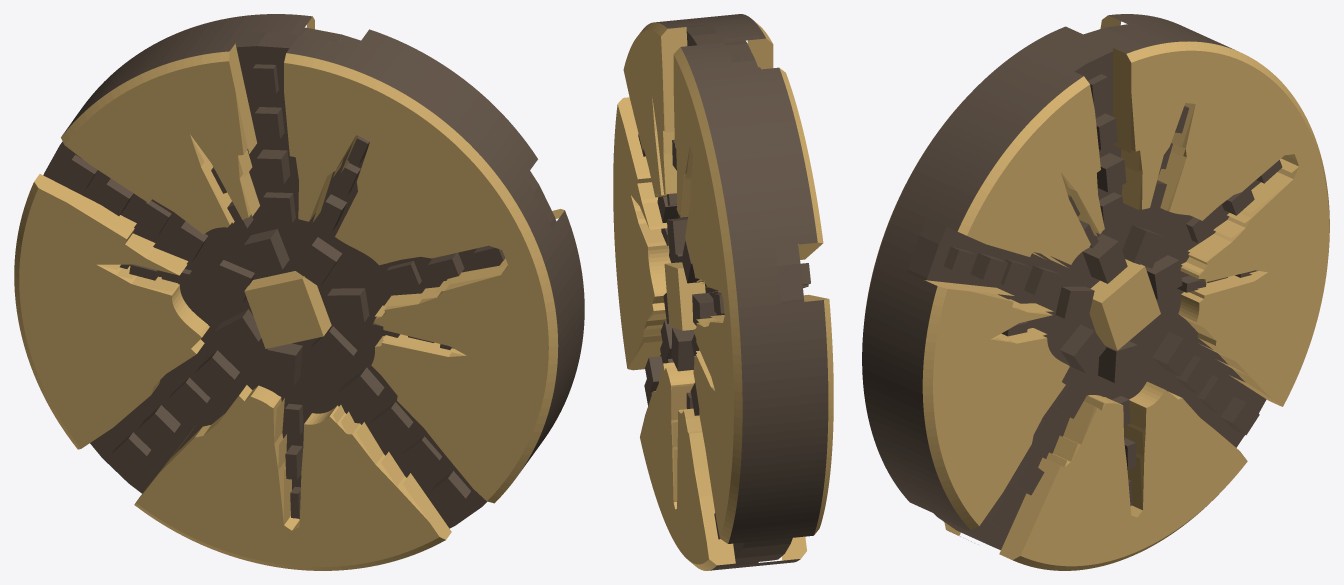
File: il-grande-disco.glb
3 views of the same model, side by side, from view 1: azimuth 30°, elevation 25°; view 2: azimuth 150°, elevation 25°; view 3: azimuth 270°, elevation 25° (orthographic). The views are drawn at different scales.
Visible parts, largest first — view 1: Il Grande Disco; view 2: Il Grande Disco; view 3: Il Grande Disco.
Boxes of the visible parts, x1,y1,x2,y2 form: Il Grande Disco: (14,14,584,570); Il Grande Disco: (613,14,833,570); Il Grande Disco: (862,14,1329,570).
Size of the model in its own units: 3.66 by 4.57 by 3.84.
